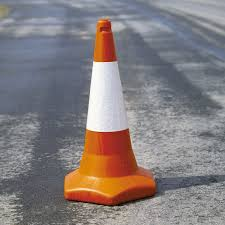cones: (54, 18, 160, 205)
